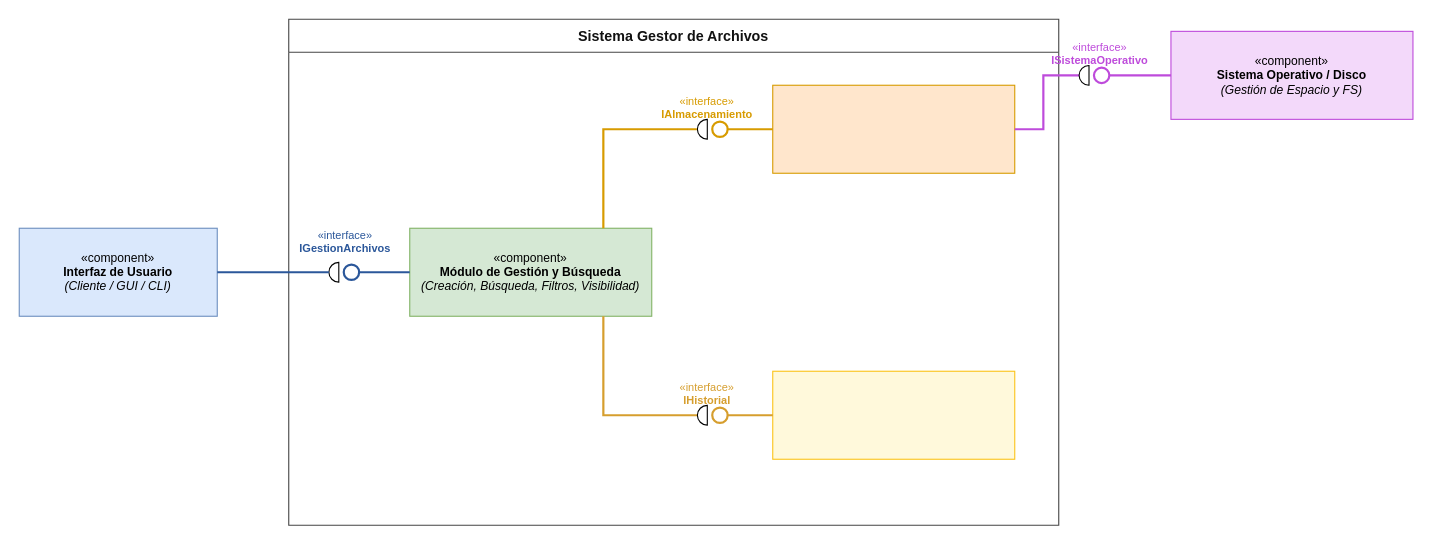
This 1432x545 diagram has some shape labels left out. The centre of each missing label's shape, as x and y in pixels:
"«component» Módulo de Almacenamiento (Categorías: Img, Doc, Audio, Video)" belongs at (x=893, y=128).
"«component» Módulo de Historial (Registro de Archivos Eliminados)" belongs at (x=893, y=414).
